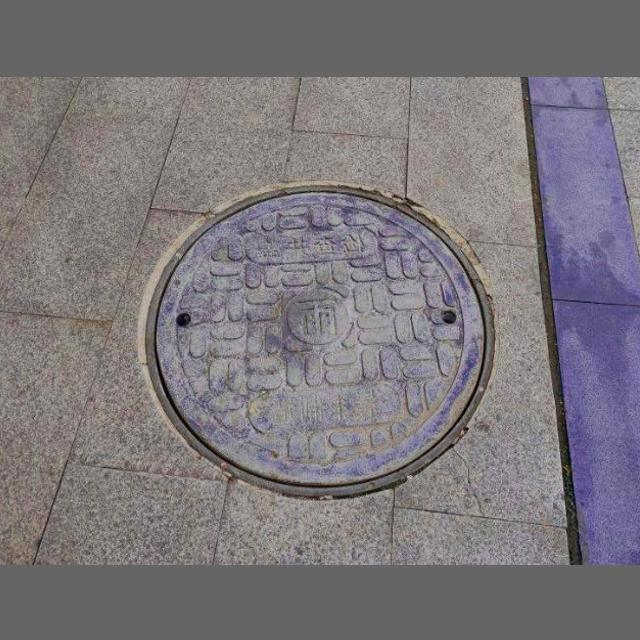good: (132, 172, 504, 511)
